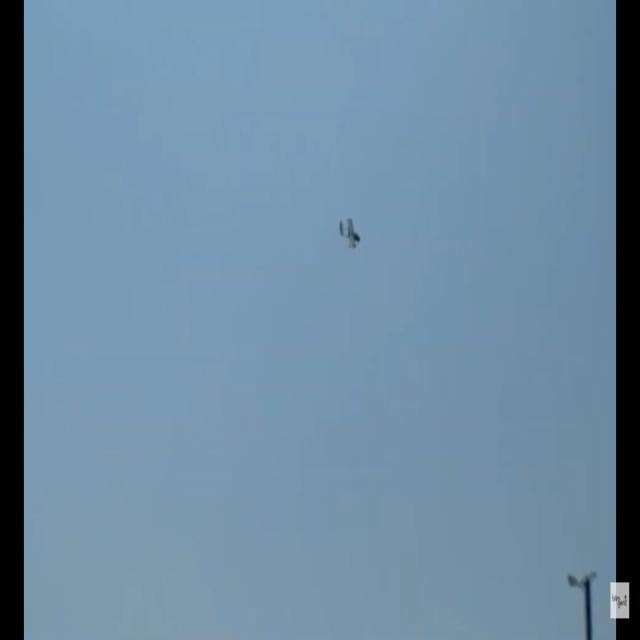iha: (338, 217, 361, 251)
